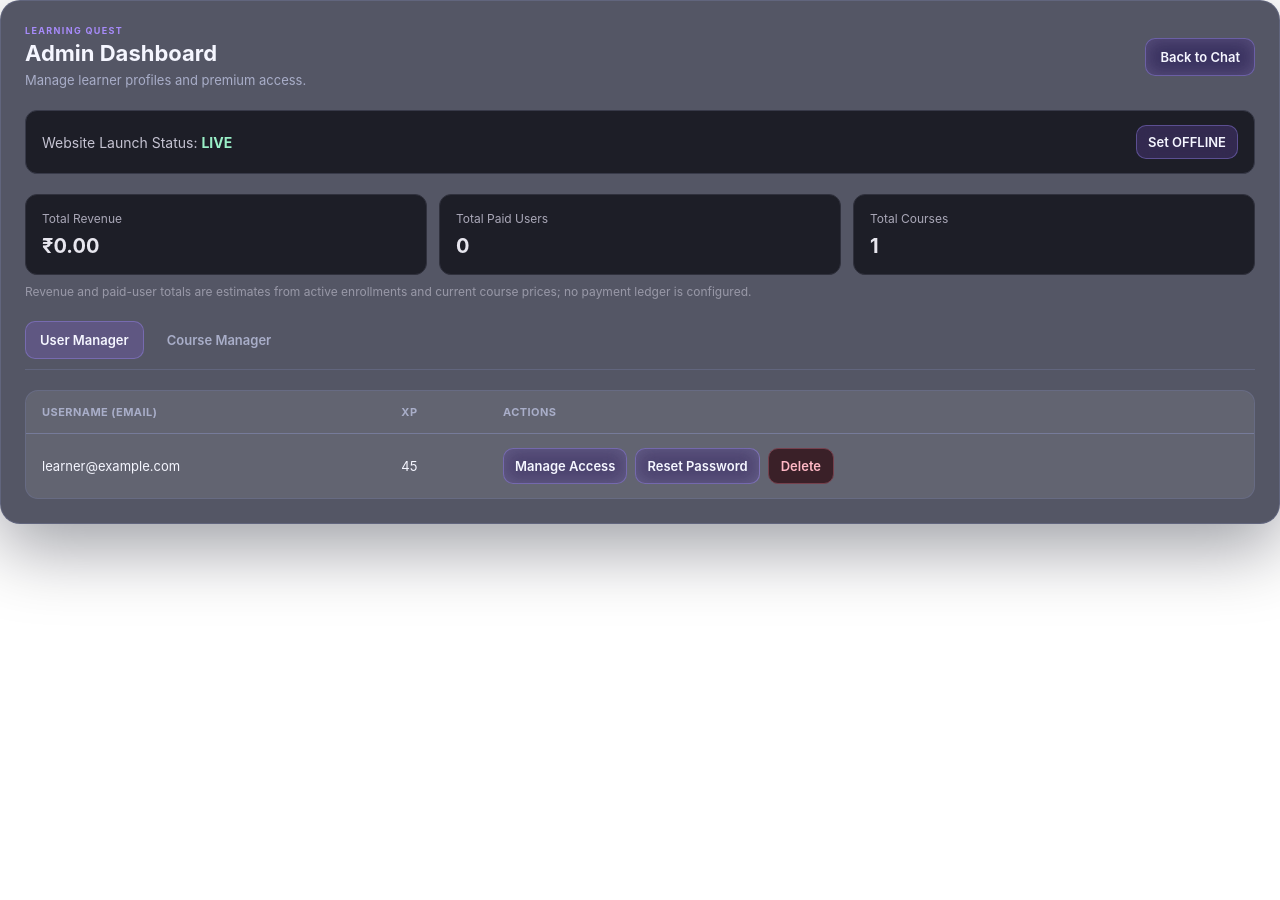
loads users, courses, and enrollments and inserts a course-specific grant
Expected: the text "learner@example.com" is shown, [42, 458, 180, 474]
Expected: the text "45" is shown, [385, 434, 487, 498]
Click the button "Manage Access" at (565, 466), box [503, 448, 627, 484]
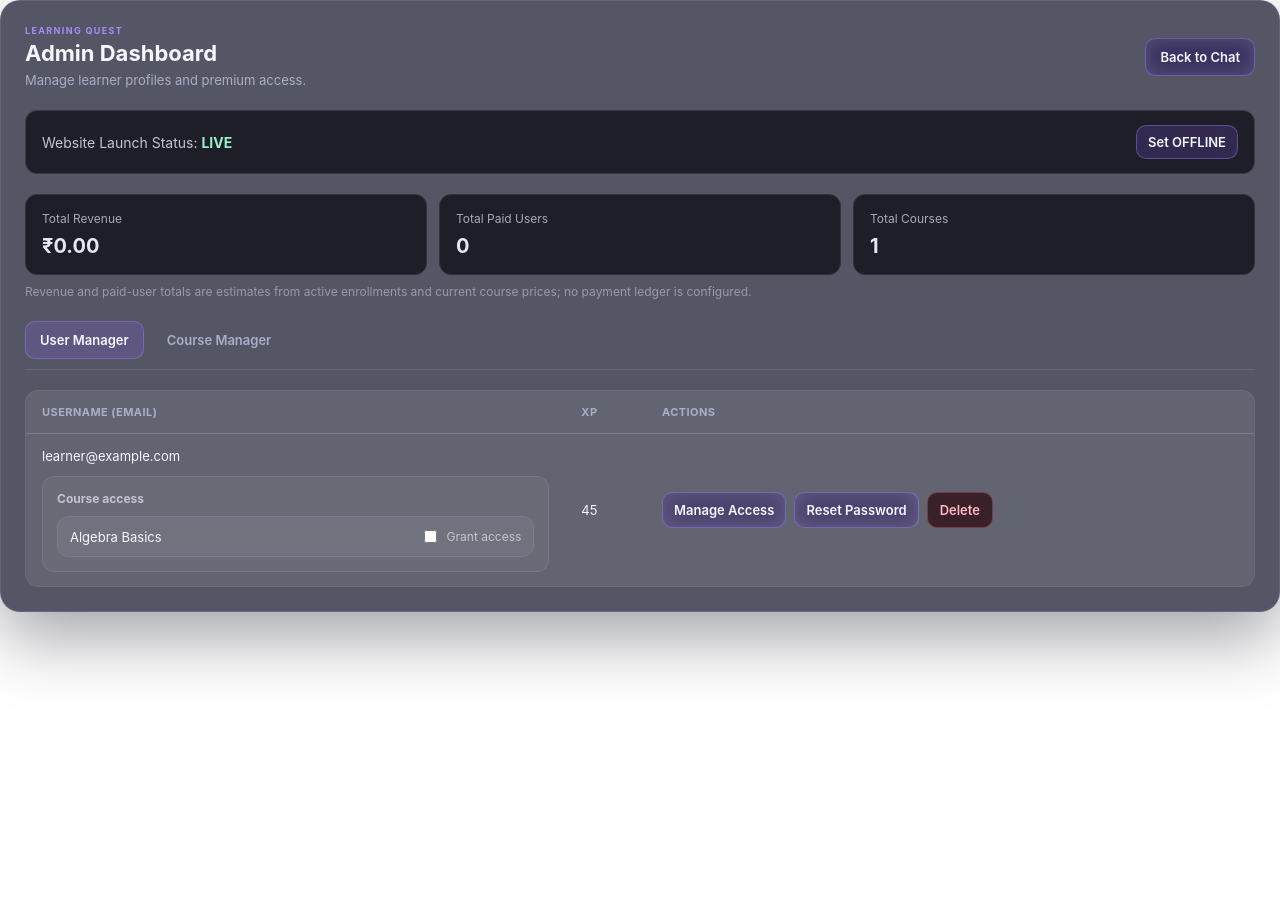
Click the checkbox named "Grant access to Algebra Basics for learner@example.com" at (430, 536), box [424, 530, 437, 543]
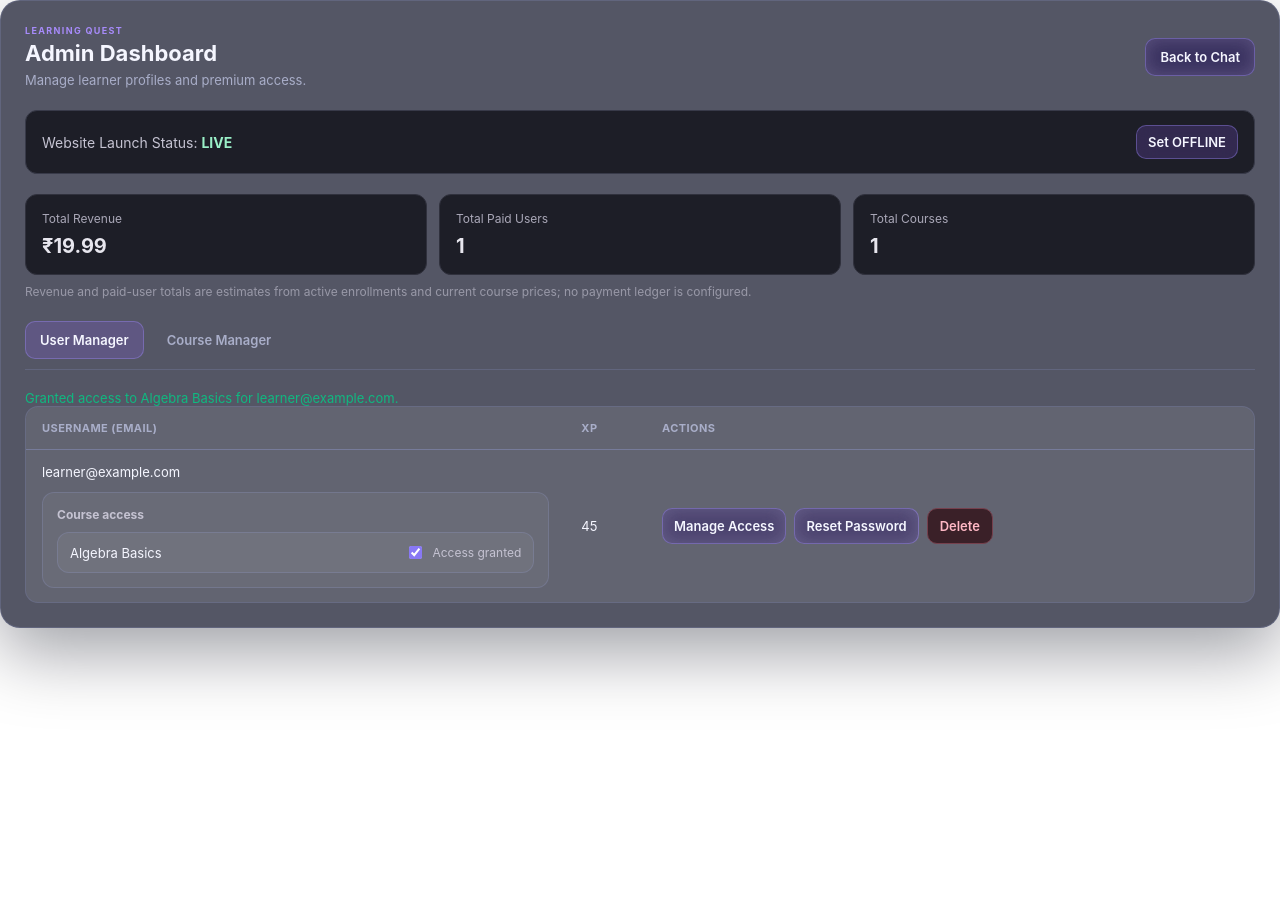
Expected: the checkbox named "Revoke access to Algebra Basics for learner@example.com" is checked, [409, 546, 422, 559]
Expected: the text "1" below "Total Paid Users" is shown, [456, 234, 465, 258]
Expected: the text "₹19.99" is shown, [42, 234, 107, 258]
